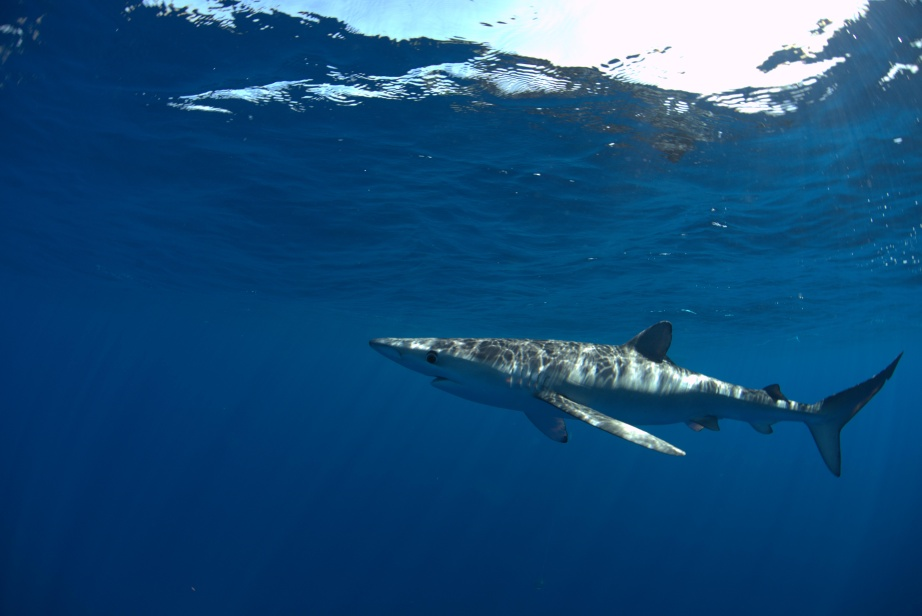Azul: (356, 268, 922, 495)
